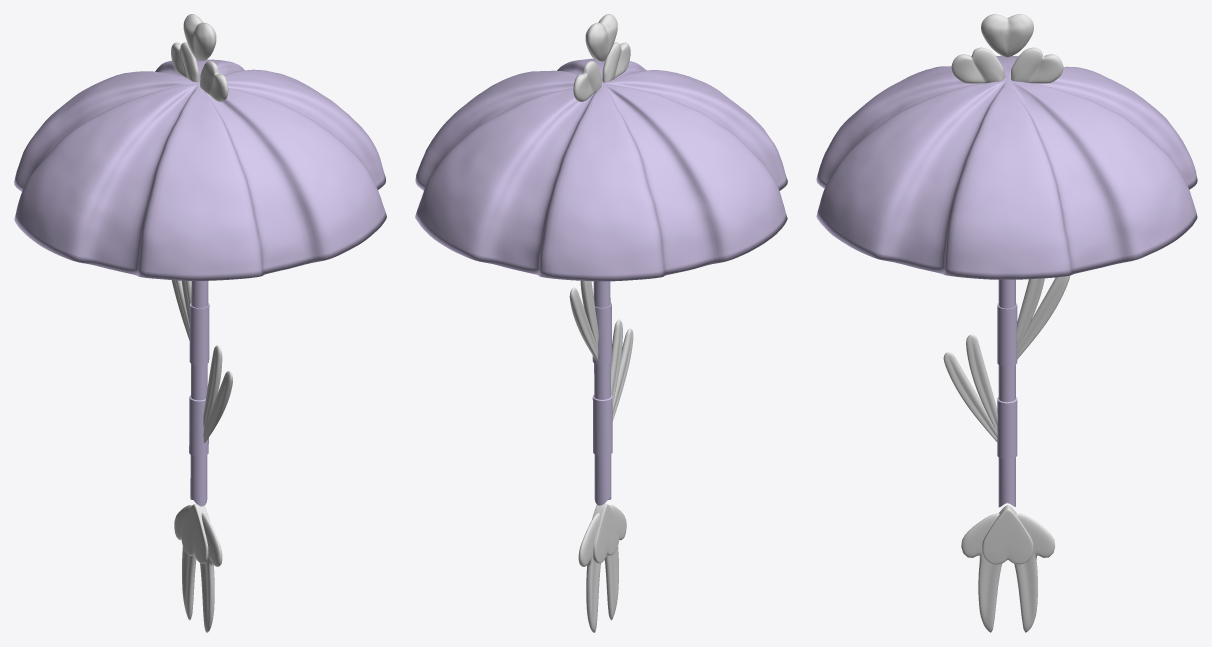
File: umbrella test.fbx
3 views of the same model, side by side, from view 1: azimuth 30°, elevation 25°; view 2: azimuth 150°, elevation 25°; view 3: azimuth 270°, elevation 25° (orthographic). The views are drawn at different scales.
Visible parts, largest first — view 1: big drap, manche, Plane.007, Plane, Plane.001, Plane.005, Plane.004, Plane.002; view 2: big drap, manche, Plane.007, Plane, Plane.002, Plane.001, Plane.005, Plane.004; view 3: big drap, manche, Plane.007, Plane, Plane.001, Plane.005, Plane.002, Plane.004.
Boxes of the visible parts, x1,y1,x2,y2 form: big drap: (14,59,386,280); manche: (189,281,209,506); Plane.007: (174,505,222,632); Plane: (171,42,228,101); Plane.001: (203,345,232,442); Plane.005: (181,503,209,563); Plane.004: (183,14,216,61); Plane.002: (171,280,191,340); big drap: (415,58,787,281); manche: (592,281,612,505); Plane.007: (578,505,626,632); Plane: (573,42,630,101); Plane.002: (569,280,598,360); Plane.001: (611,319,633,420); Plane.005: (592,503,619,563); Plane.004: (585,14,617,61); big drap: (816,55,1197,279); manche: (997,279,1017,507); Plane.007: (961,513,1055,632); Plane: (951,47,1063,83); Plane.001: (943,334,997,441); Plane.005: (982,505,1033,564); Plane.002: (1016,275,1069,359); Plane.004: (981,14,1033,57).
Size of the model in its own units: 228 by 398 by 222.
